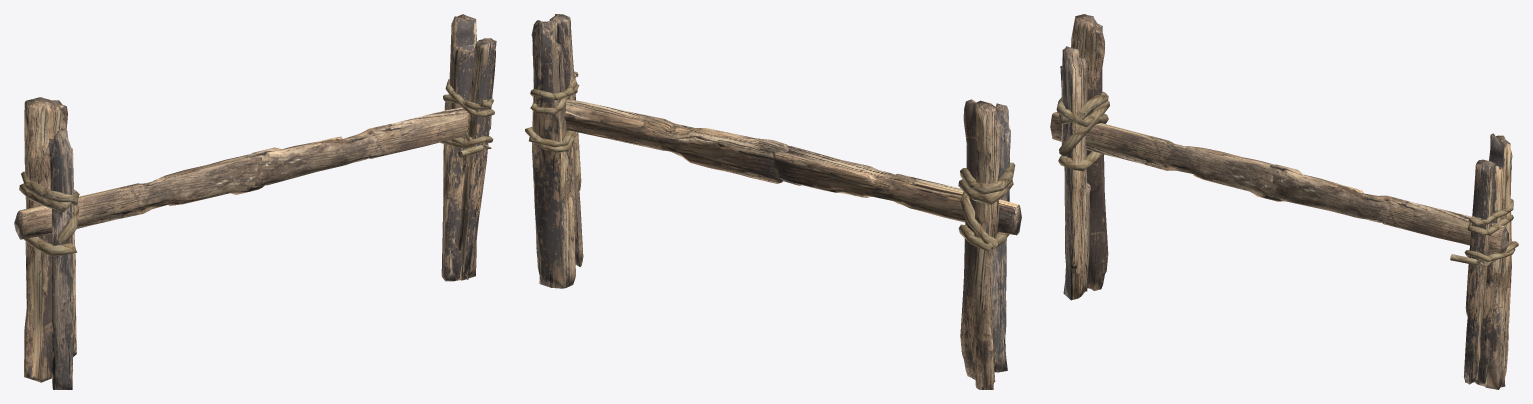
File: fence4_lod0.FBX
3 views of the same model, side by side, from view 1: azimuth 30°, elevation 25°; view 2: azimuth 150°, elevation 25°; view 3: azimuth 330°, elevation 25° (orthographic). The views are drawn at different scales.
Parts seen in each view (by area): view 1: fence4; view 2: fence4; view 3: fence4.
Boxes of the visible parts, left/top/right/bottom form: fence4: left=14, top=14, right=496, bottom=389; fence4: left=525, top=14, right=1021, bottom=389; fence4: left=1050, top=14, right=1518, bottom=389.
Size of the model in its own units: 324 by 183 by 43.69.
